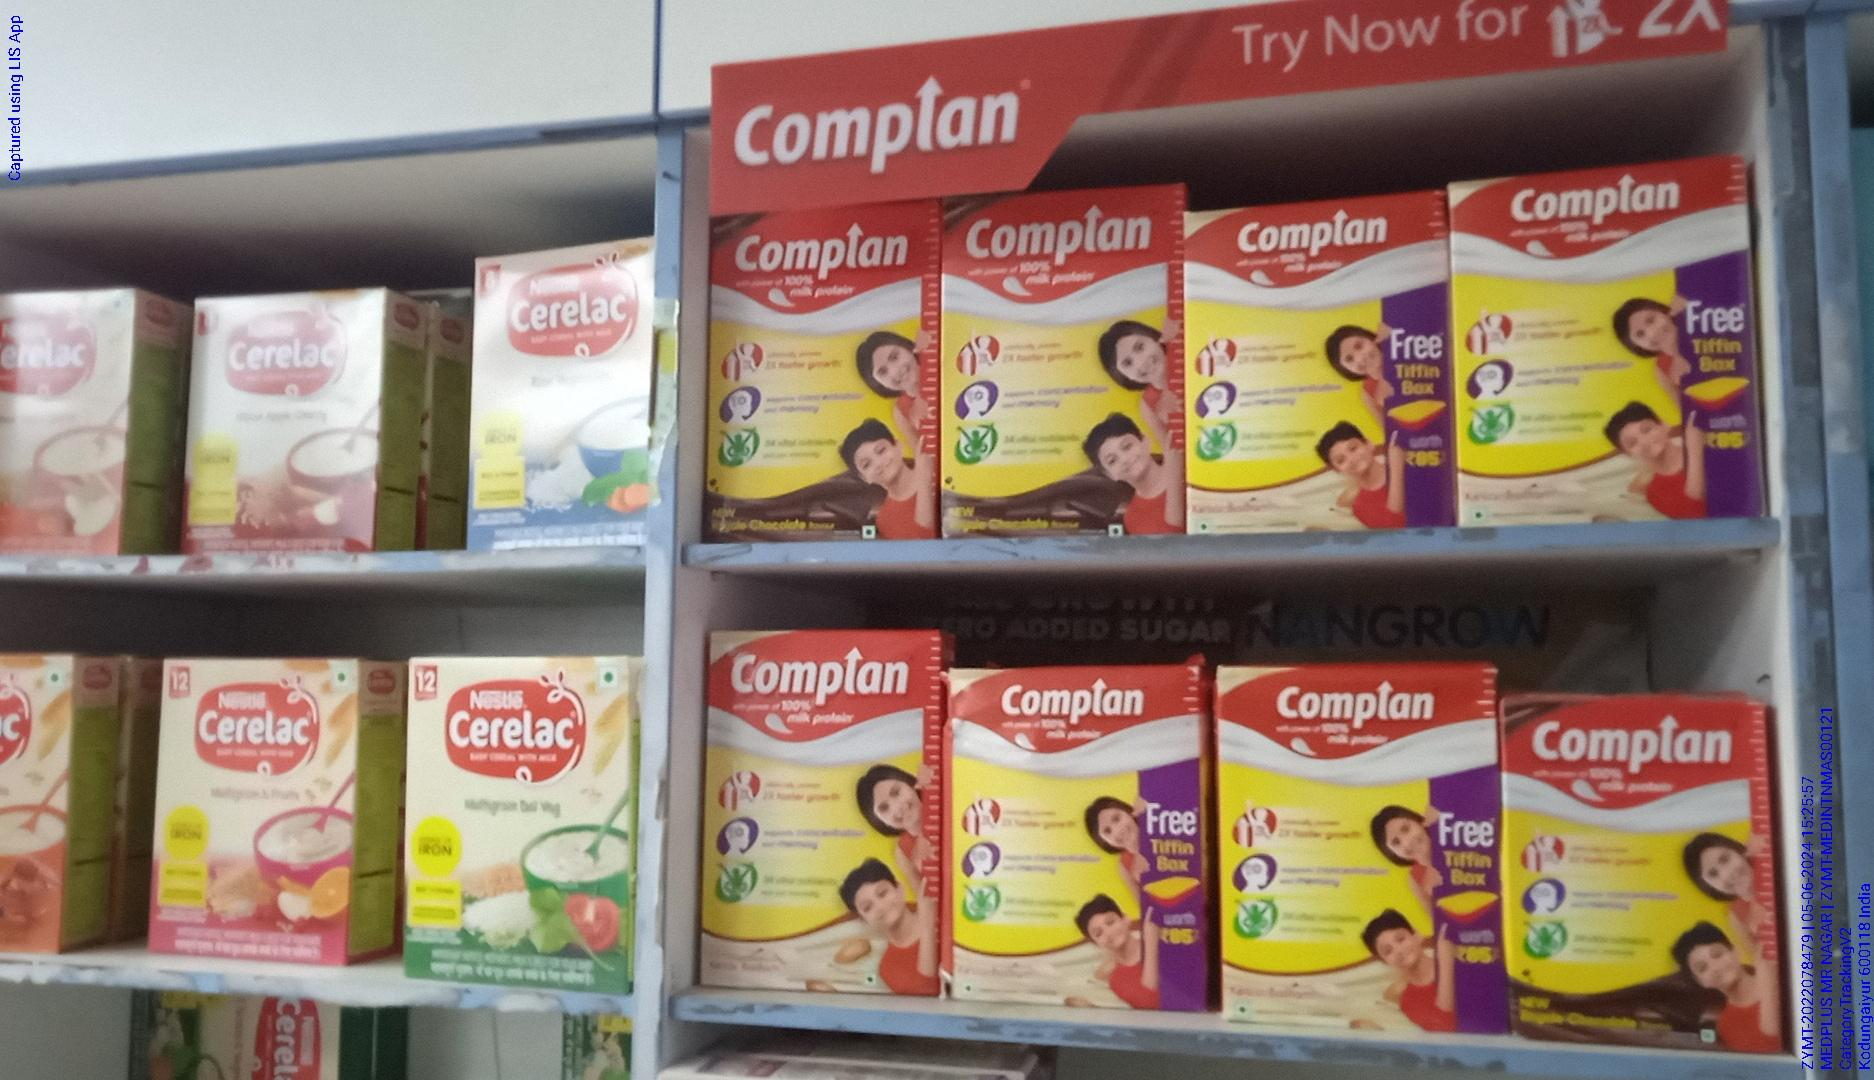COMPLAN_KESAR_BADAM_500_GMS_PACK: (950, 650, 1200, 1019), (701, 628, 932, 1000), (1191, 210, 1452, 530)
